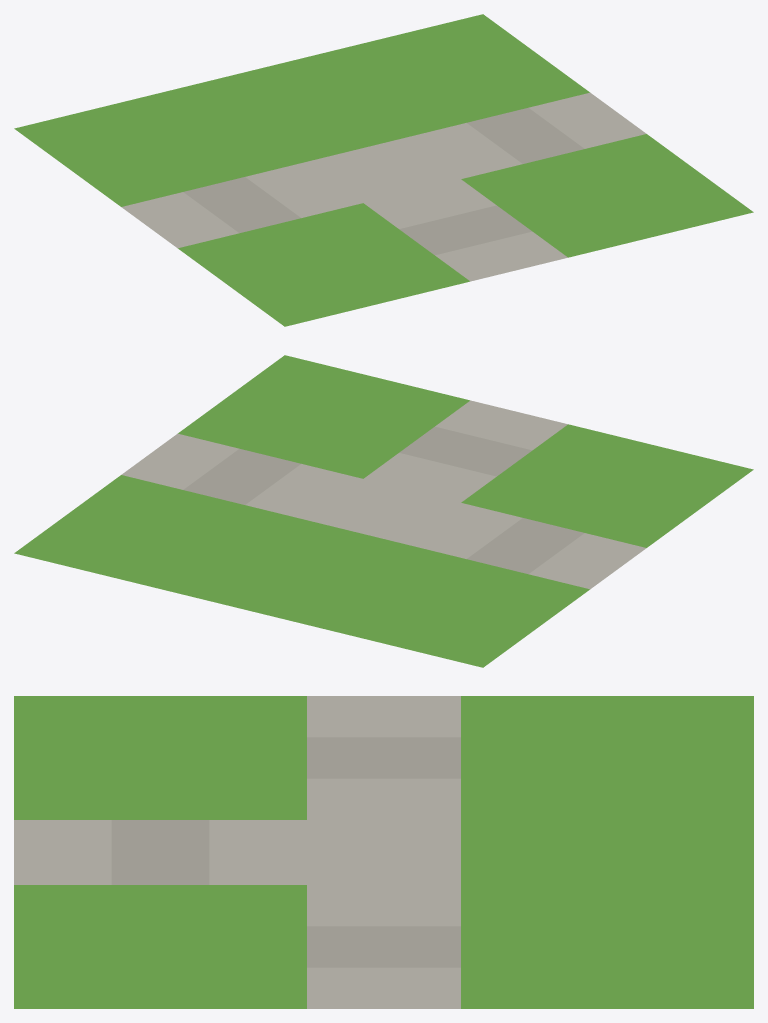
The model's file is calcada-t.glb.
3 views of the same model, one above another, from view 1: azimuth 30°, elevation 25°; view 2: azimuth 150°, elevation 25°; view 3: azimuth 270°, elevation 25° (orthographic). The views are drawn at different scales.
Visible parts, largest first — view 1: Grama, Calcada; view 2: Grama, Calcada; view 3: Grama, Calcada.
Boxes of the visible parts, left/top/right/bottom form: Grama: left=14, top=14, right=753, bottom=326; Calcada: left=121, top=92, right=646, bottom=281; Grama: left=14, top=355, right=753, bottom=667; Calcada: left=121, top=400, right=646, bottom=589; Grama: left=14, top=696, right=753, bottom=1008; Calcada: left=14, top=696, right=460, bottom=1008.
Size of the model in its own units: 12 by 0 by 12.
